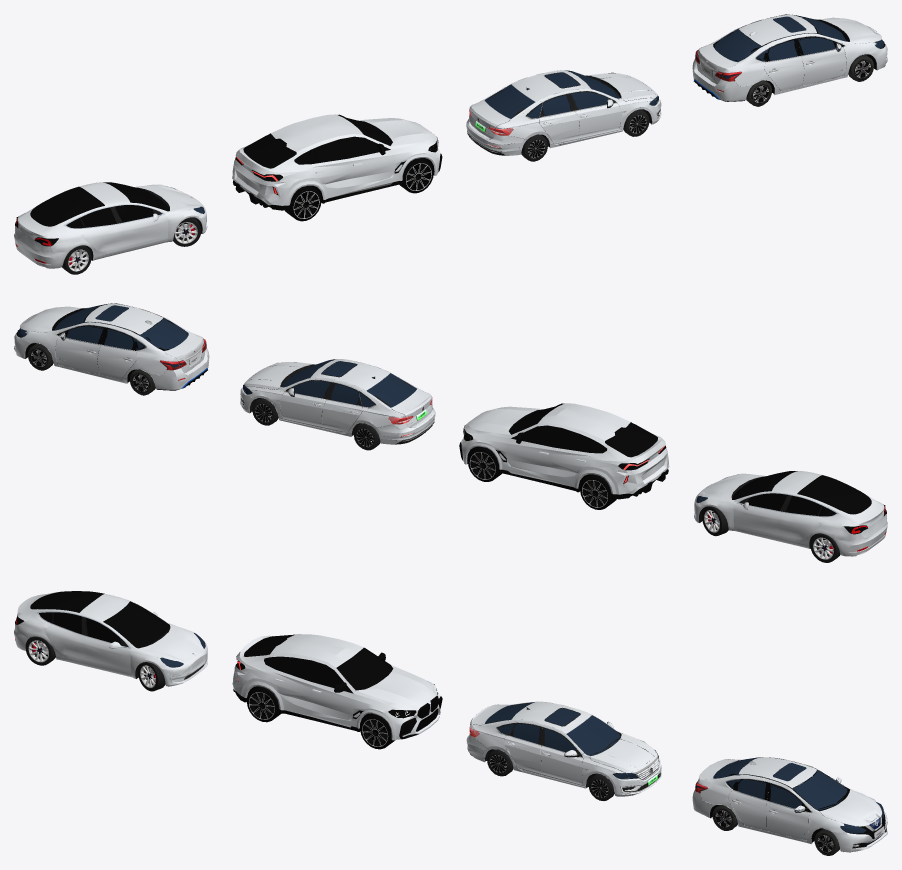
File: cars.glb
3 views of the same model, one above another, from view 1: azimuth 30°, elevation 25°; view 2: azimuth 150°, elevation 25°; view 3: azimuth 330°, elevation 25° (orthographic).
Visible parts, largest first — view 1: car_suv, car_sylphy, car_lavida, car_sedan; view 2: car_suv, car_sylphy, car_lavida, car_sedan; view 3: car_suv, car_sylphy, car_sedan, car_lavida.
Boxes of the visible parts, <box> form: car_suv: <box>232,114,442,221</box>; car_sylphy: <box>692,14,887,106</box>; car_lavida: <box>466,70,661,161</box>; car_sedan: <box>14,182,207,274</box>; car_suv: <box>459,403,669,509</box>; car_sylphy: <box>14,303,209,395</box>; car_lavida: <box>240,359,435,450</box>; car_sedan: <box>694,471,887,562</box>; car_suv: <box>232,634,442,749</box>; car_sylphy: <box>692,757,887,855</box>; car_sedan: <box>14,591,207,691</box>; car_lavida: <box>466,701,661,800</box>.
Bounding box in the file's own units: 22.64 × 1.76 × 2.24.
44 materials, 6 textured.
